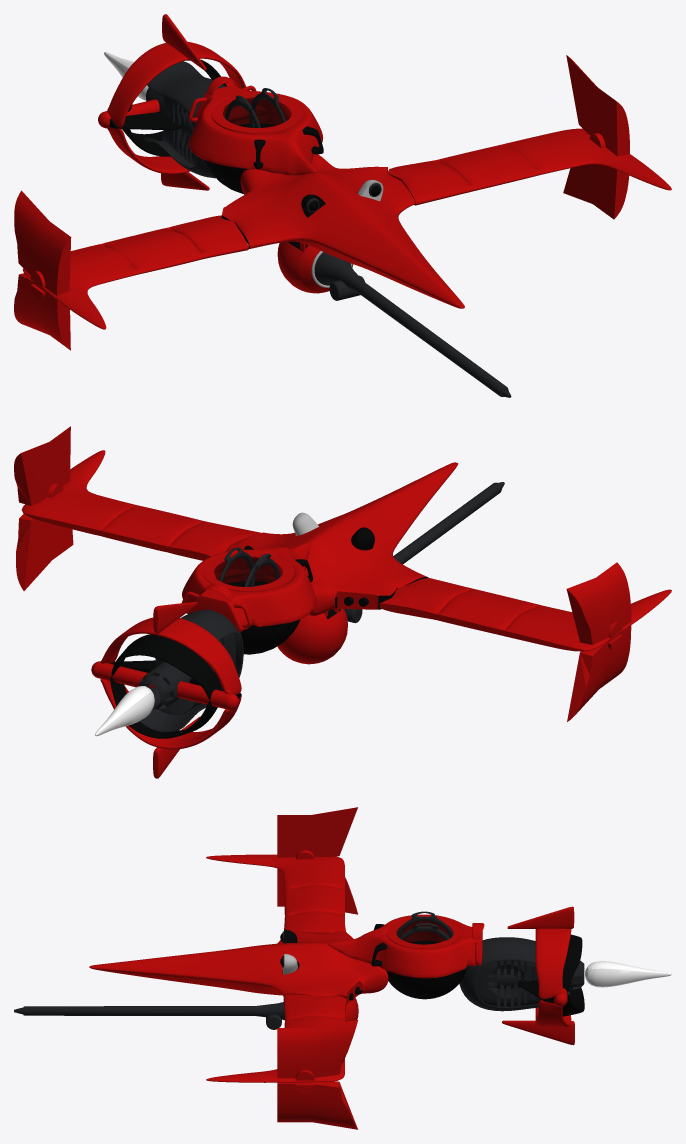
Rendered from swordfish.FBX.
3 views of the same model, one above another, from view 1: azimuth 30°, elevation 25°; view 2: azimuth 150°, elevation 25°; view 3: azimuth 270°, elevation 25° (orthographic). The views are drawn at different scales.
Parts seen in each view (by area): view 1: Box03, Box05, Box04, Line01, Box07, Cylinder05, Line05, Tube03, Box08, Box06, Line06, Tube02 (+12 smaller); view 2: Box03, Box05, Box04, Line01, Box07, Tube03, Line05, Box06, Line06, Tube05, Box08, Object01 (+14 smaller); view 3: Box03, Box04, Line01, Line05, Box07, Box05, Box06, Cylinder05, Box08, Box10, Tube03, Sphere01 (+10 smaller).
Part boxes in pixels (x1,y1,x2,y2): Box03: (222,154,464,308); Box05: (387,128,671,205); Box04: (23,215,248,329); Line01: (189,85,323,175); Box07: (14,190,71,295); Cylinder05: (314,252,508,396); Line05: (566,55,629,156); Tube03: (107,41,246,127); Box08: (144,61,239,178); Box06: (563,164,629,219); Line06: (14,273,70,350); Tube02: (211,94,303,133); Box03: (214,462,458,616); Box05: (22,450,260,560); Box04: (379,578,671,651); Line01: (182,542,316,631); Box07: (566,562,631,644); Tube03: (100,617,241,694); Line05: (14,426,70,505); Box06: (16,514,73,590); Line06: (567,625,631,721); Tube05: (111,634,220,699); Box08: (139,609,243,731); Object01: (277,613,332,664); Box03: (89,931,388,1005); Box04: (206,854,345,933); Line01: (328,914,482,978); Line05: (277,1020,357,1078); Box07: (277,807,357,857); Box05: (206,994,346,1082); Box06: (277,1081,357,1129); Cylinder05: (23,1002,284,1020); Box08: (459,937,570,1011); Box10: (476,960,541,1006); Tube03: (535,928,571,999); Sphere01: (385,940,467,999).
Size of the model in its own units: 76.91 by 21.62 by 93.25.
